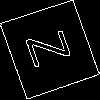Z: (25, 24, 81, 69)
